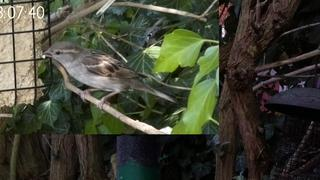sparrow: (40, 40, 179, 115)
